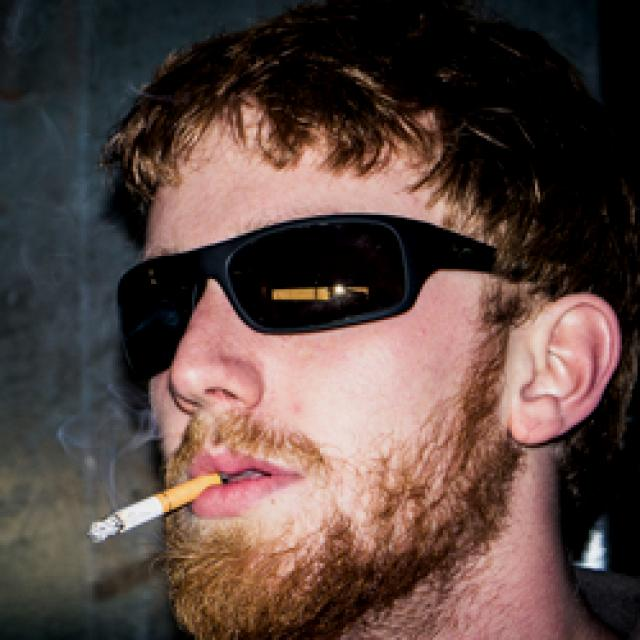Smooking: (56, 462, 241, 576)
